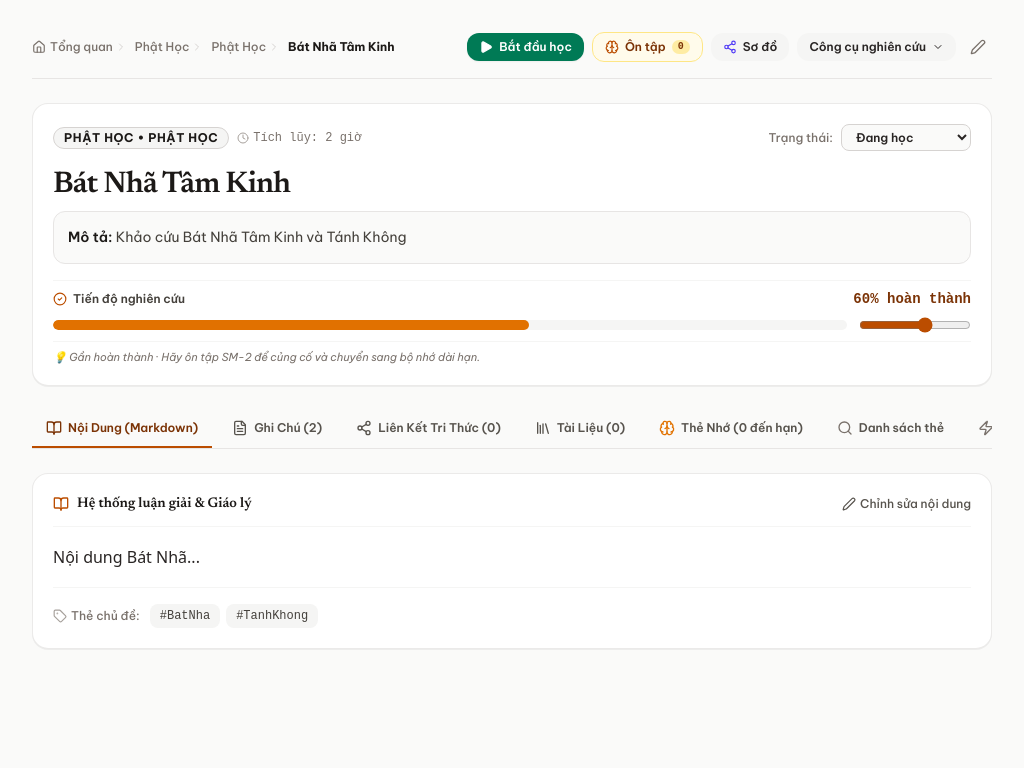
Test case: Option A: Topic-scoped Research Notes in TopicDetail › 3. Each note card has a "Đọc tiếp" button and clicking it opens NoteReaderModal
The image size is (1024, 768).
Step 1. Click the button with test id "tab-btn-notes" → (277, 429), box [218,410,336,448]
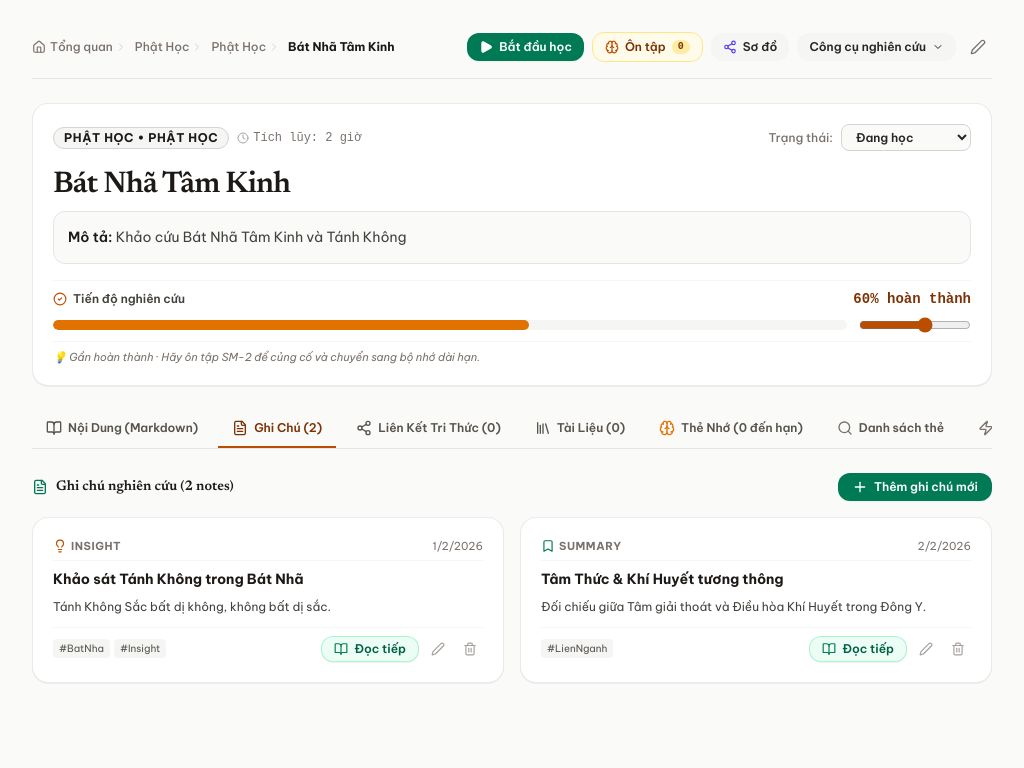
Now the button with aria-label "Đọc tiếp ghi chú Khảo sát Tánh Không trong Bát Nhã" is shown
// Click "Đọc tiếp"
Step 2. Click the button with aria-label "Đọc tiếp ghi chú Khảo sát Tánh Không trong Bát Nhã" → (370, 649), box [322,636,419,662]
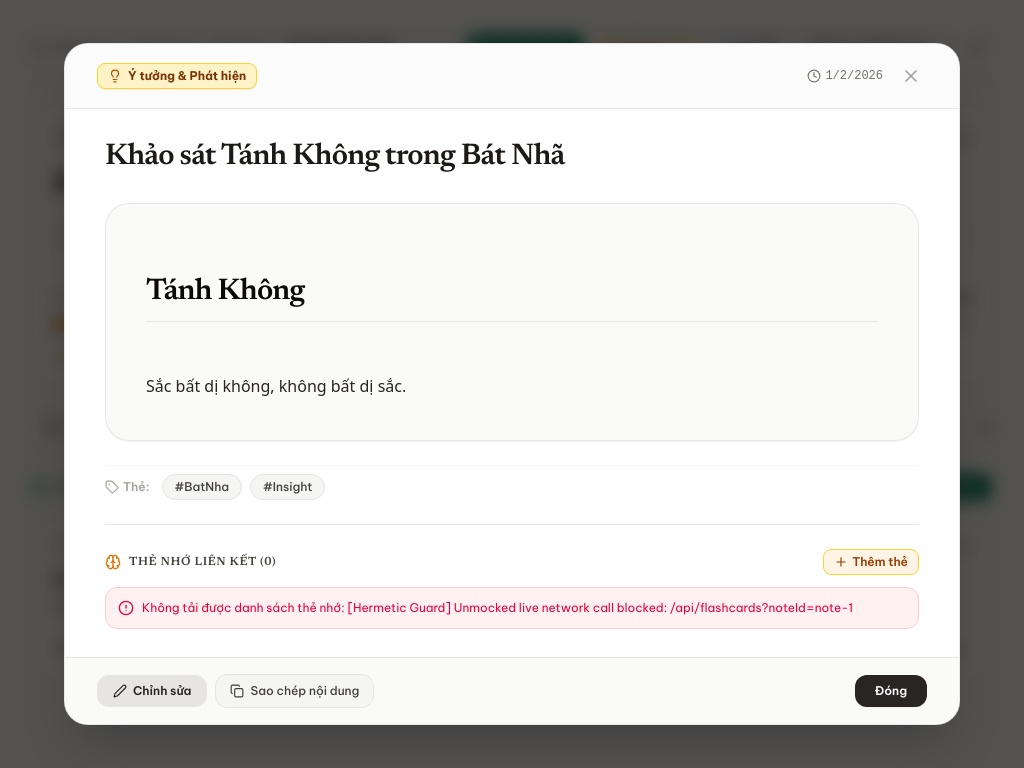
Now the dialog named "Chi tiết ghi chú" is shown
Now the heading "Khảo sát Tánh Không trong Bát Nhã" is shown, box [105,142,565,172]
Now the text "Sắc bất dị không, không bất dị sắc." is shown, box [146,375,406,397]
